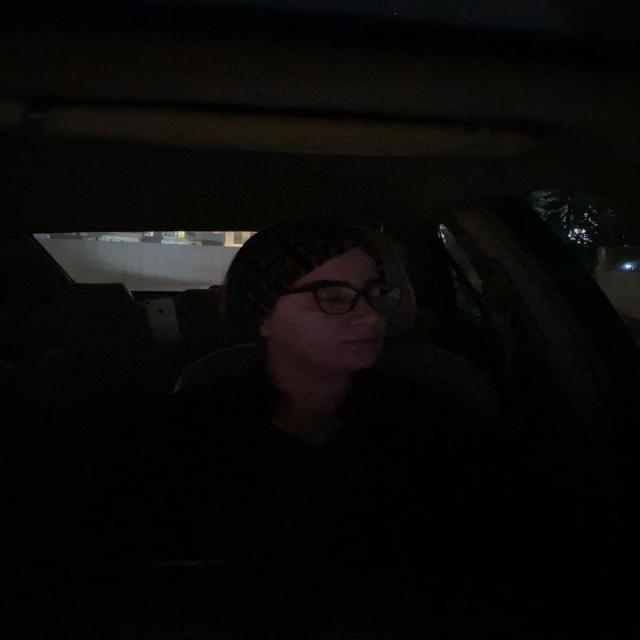drowsy: (226, 216, 423, 388)
